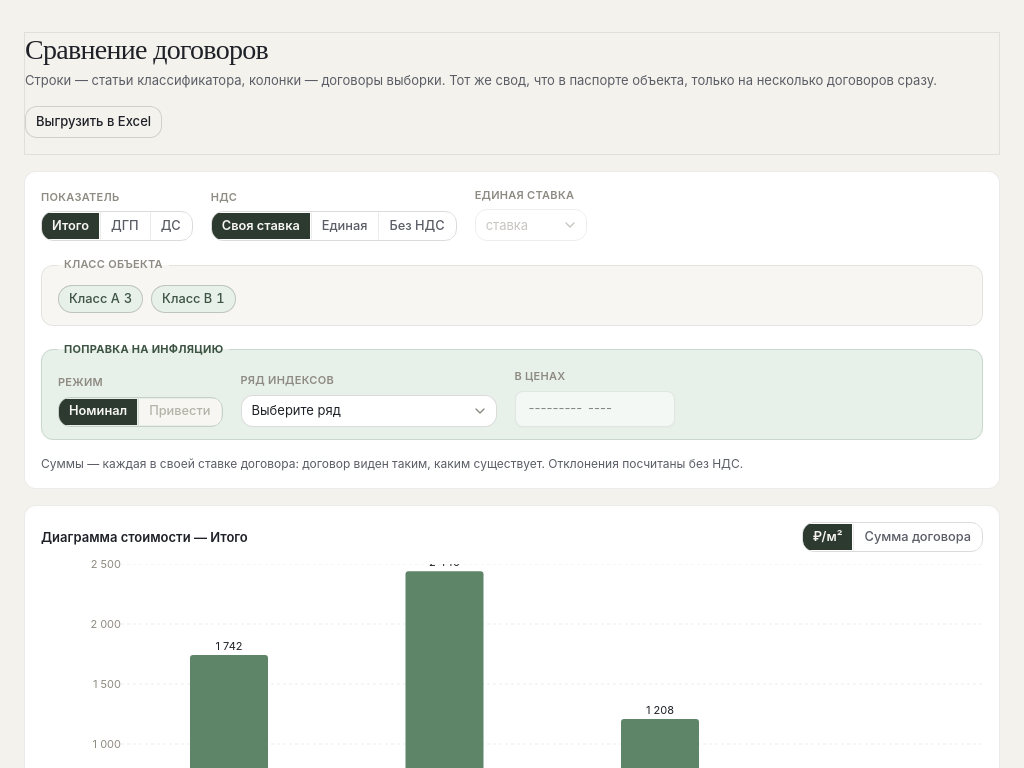
Test: ComparePage: поправка на инфляцию › селектор показывает НАЗВАНИЕ ряда, а не его id
Expected: the text with test id "comparison-caption" is shown, [41,456,743,471]
Click the dropdown named "Ряд индексов" at {"x": 368, "y": 411}, box [240,395,496,427]
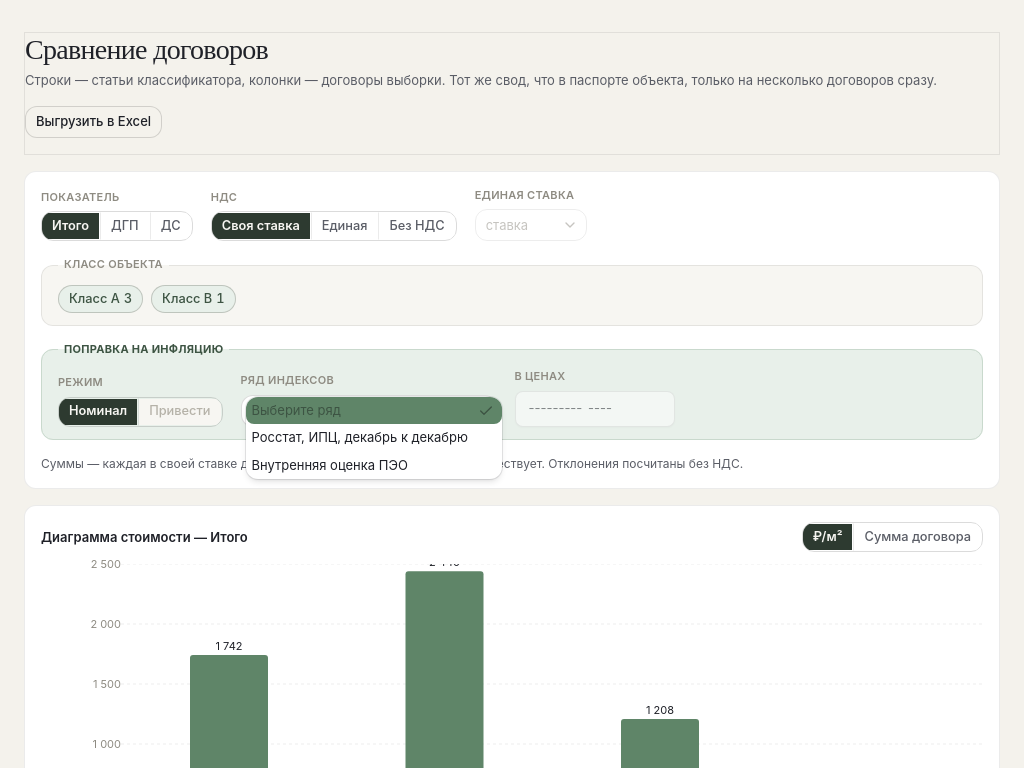
Click the option "Росстат, ИПЦ, декабрь к декабрю" at {"x": 360, "y": 437}, box [252,429,468,445]
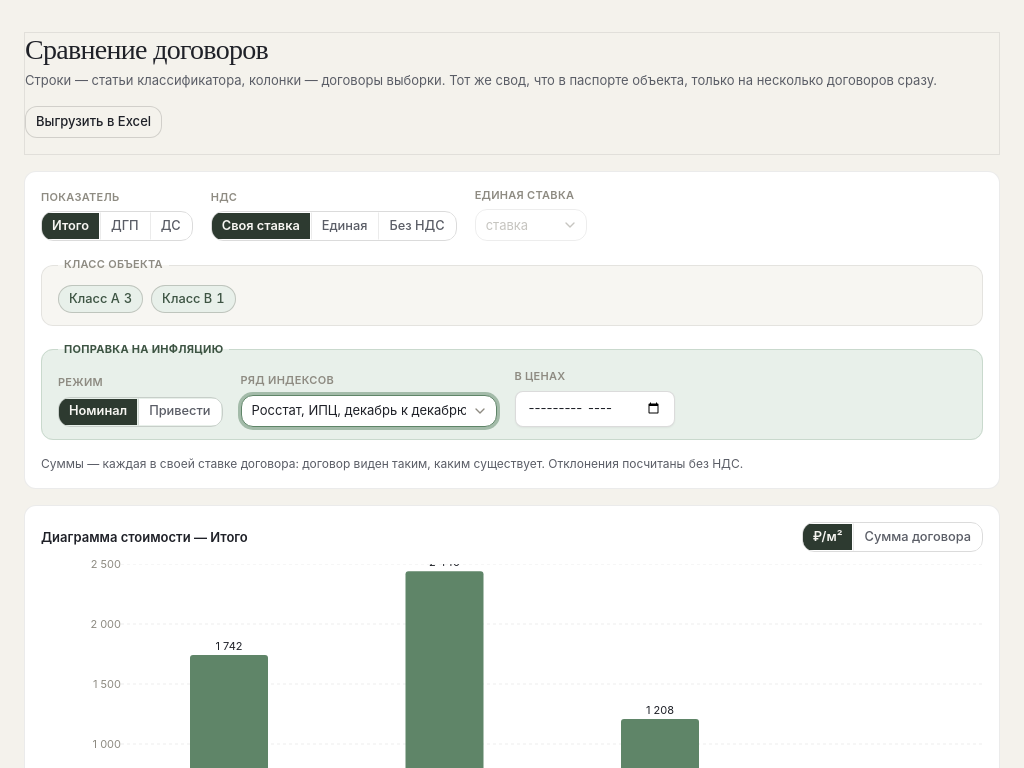
Result: the dropdown named "Ряд индексов" shows "Росстат, ИПЦ, декабрь к декабрю" at [240,395,496,427]
Result: the dropdown named "Ряд индексов" no longer shows "1" at [240,395,496,427]
